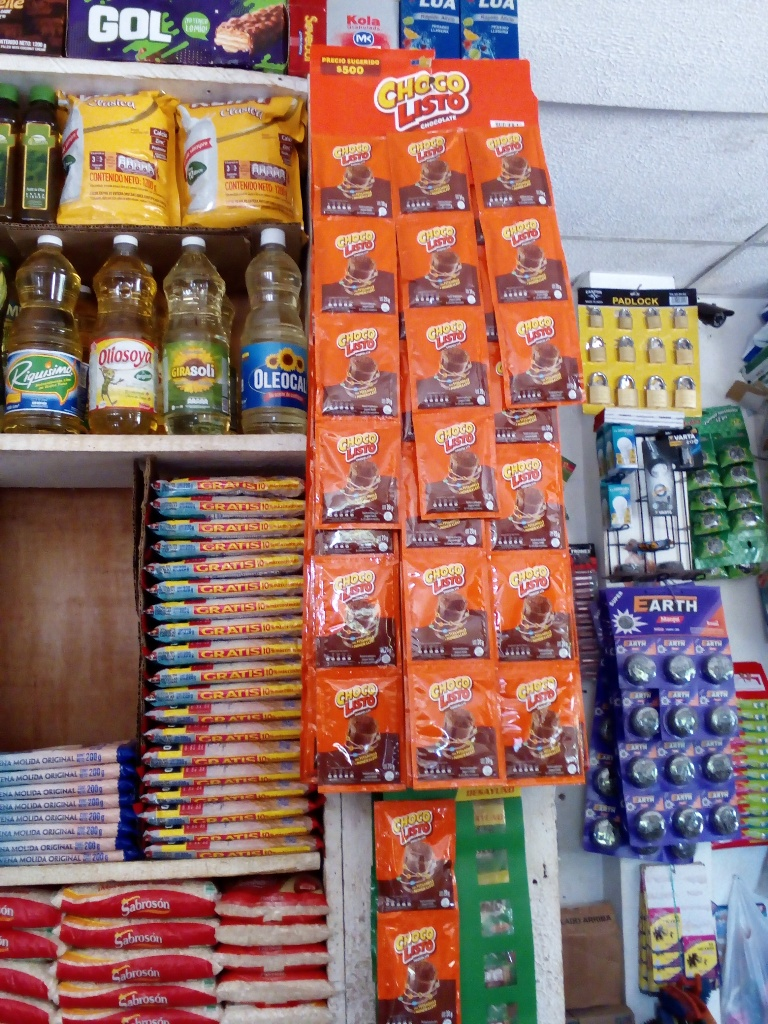COL0170103SOB02000: (309, 127, 391, 216)
